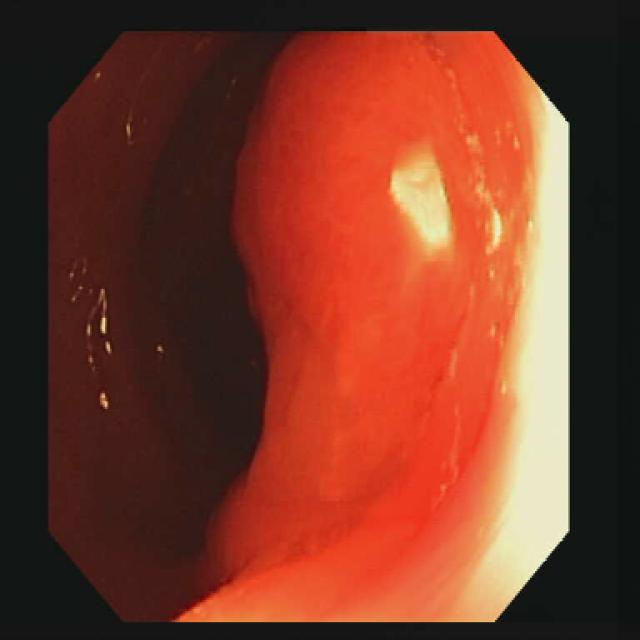tumor: (217, 36, 530, 558)
